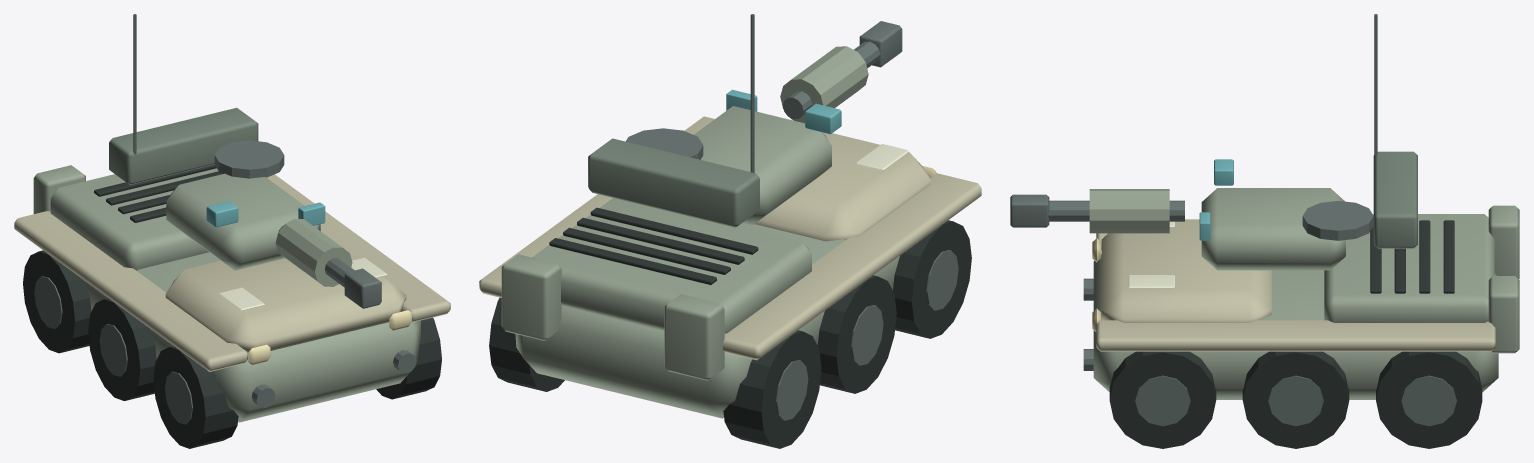
File: scout.glb
The picture shows the model from 3 angles, left to right: view 1: azimuth 30°, elevation 25°; view 2: azimuth 150°, elevation 25°; view 3: azimuth 270°, elevation 25°; orthographic projection. The views are drawn at different scales.
Parts seen in each view (by area): view 1: Chassis, TurretArmor; view 2: Chassis, TurretArmor; view 3: Chassis, TurretArmor.
Boxes of the visible parts, x1,y1,x2,y2 form: Chassis: (14,164,450,448); TurretArmor: (109,14,381,308); Chassis: (479,116,981,448); TurretArmor: (588,14,902,227); Chassis: (1083,205,1519,448); TurretArmor: (1010,14,1417,270).
Bounding box in the file's own units: 2.6 × 3.44 × 4.59.
